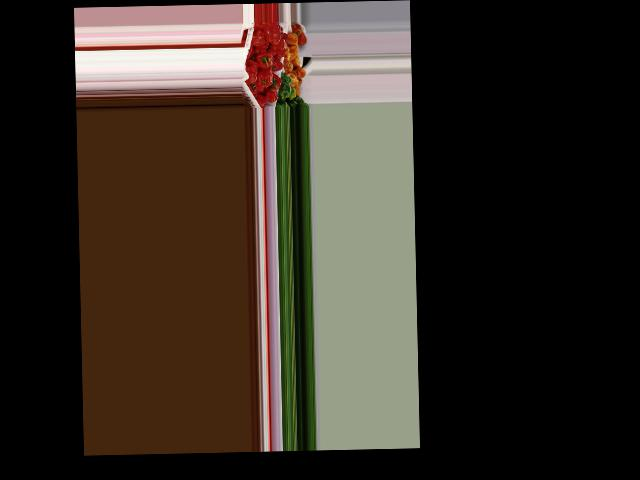bell_pepper: (243, 59, 258, 84)
